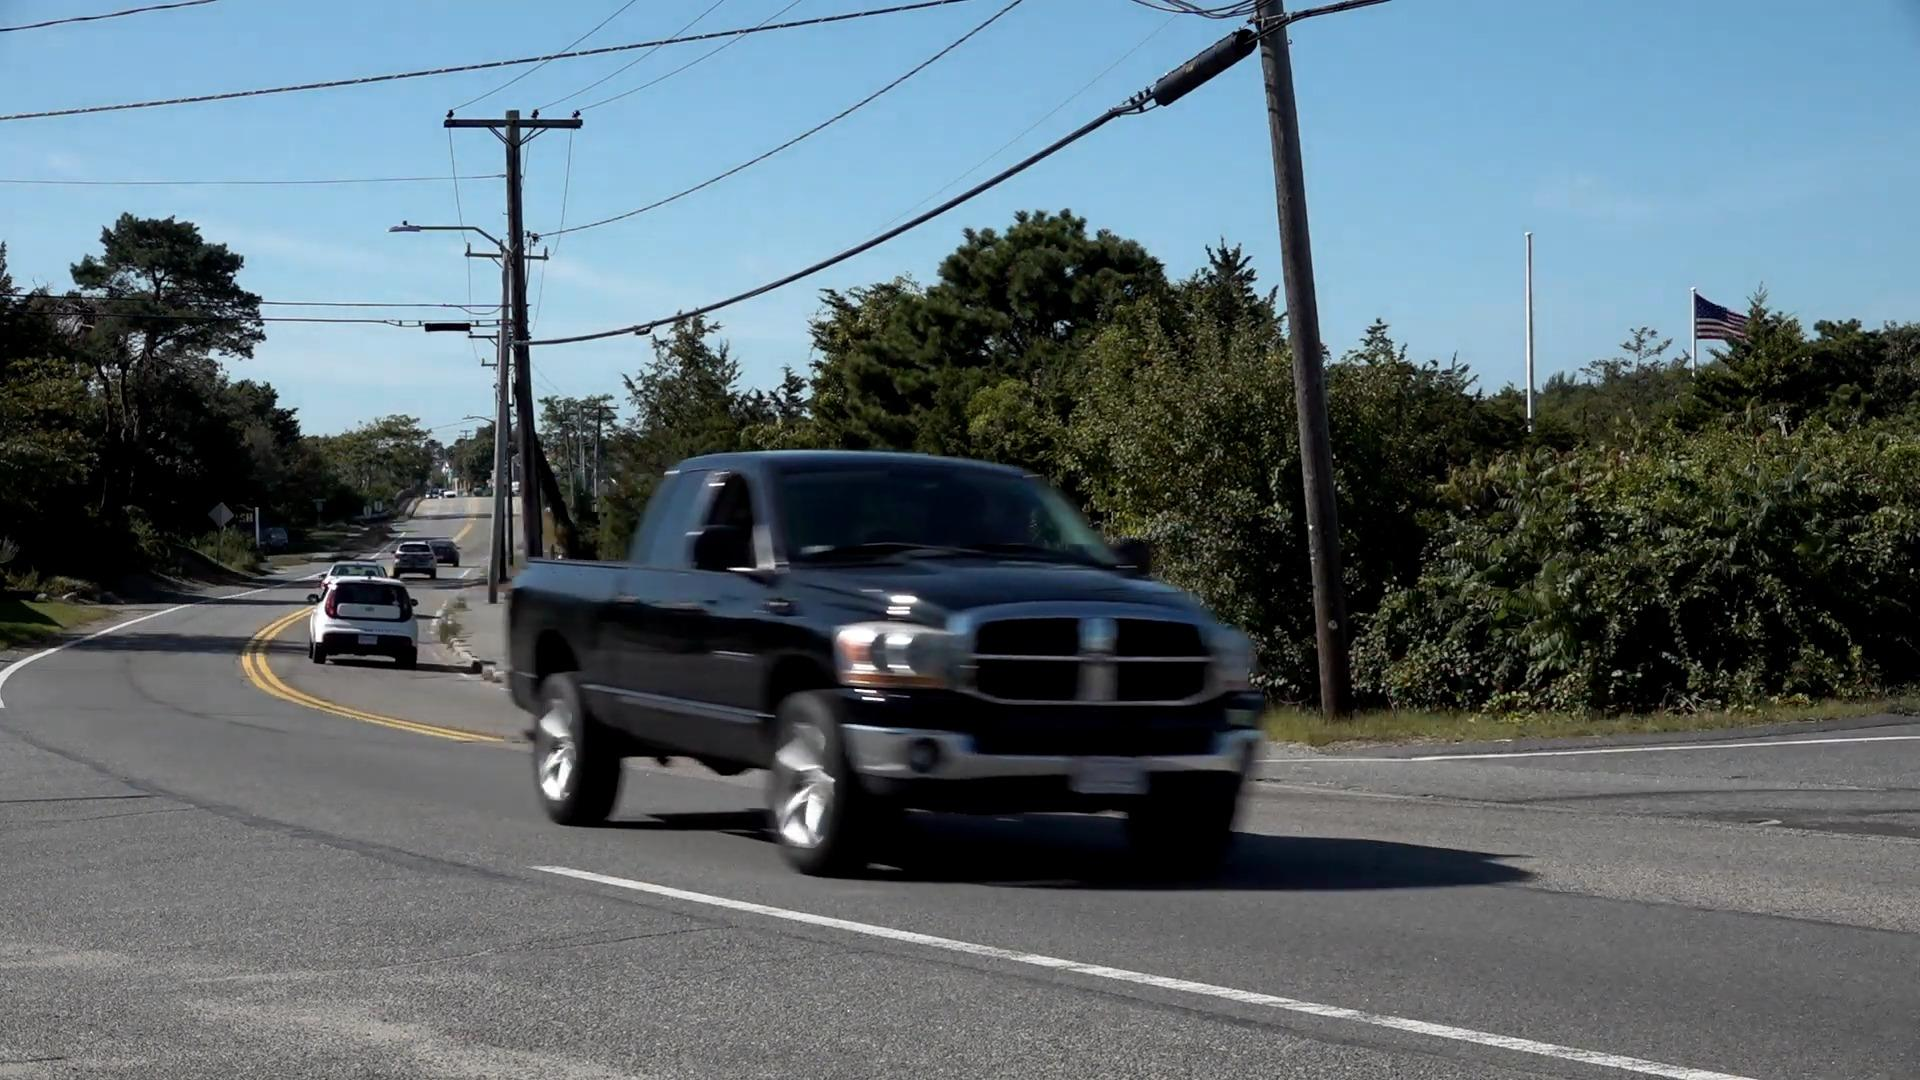pickup: (497, 444, 1266, 885)
suv: (309, 579, 425, 666)
